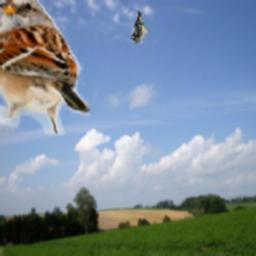Sparrow: (0, 0, 90, 136)
Woodpecker: (131, 11, 151, 44)
